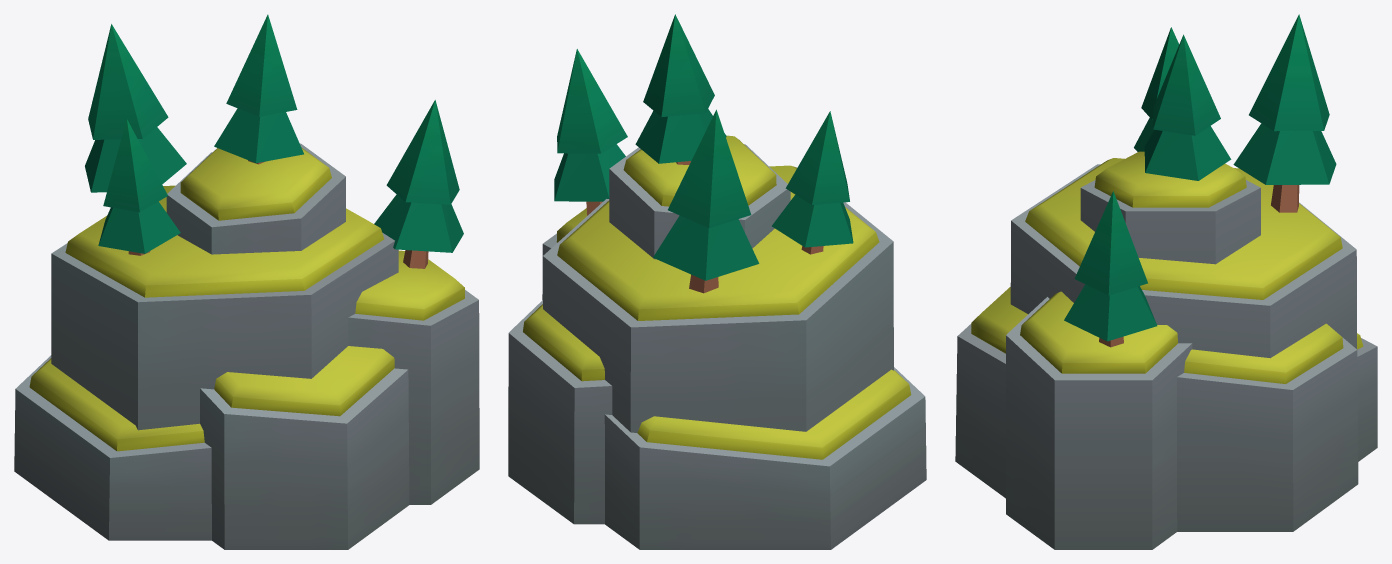
The model's file is mountain.glb.
The picture shows the model from 3 angles, left to right: view 1: azimuth 30°, elevation 25°; view 2: azimuth 150°, elevation 25°; view 3: azimuth 270°, elevation 25°; orthographic projection.
Parts seen in each view (by area): view 1: mountain_A_grass_trees; view 2: mountain_A_grass_trees; view 3: mountain_A_grass_trees.
Boxes of the visible parts, x1,y1,x2,y2 form: mountain_A_grass_trees: (14, 14, 479, 549); mountain_A_grass_trees: (508, 14, 926, 549); mountain_A_grass_trees: (955, 14, 1377, 549).
Bounding box in the file's own units: 1.86 × 2.18 × 1.88.
Materials: 1 (1 with a texture image).
